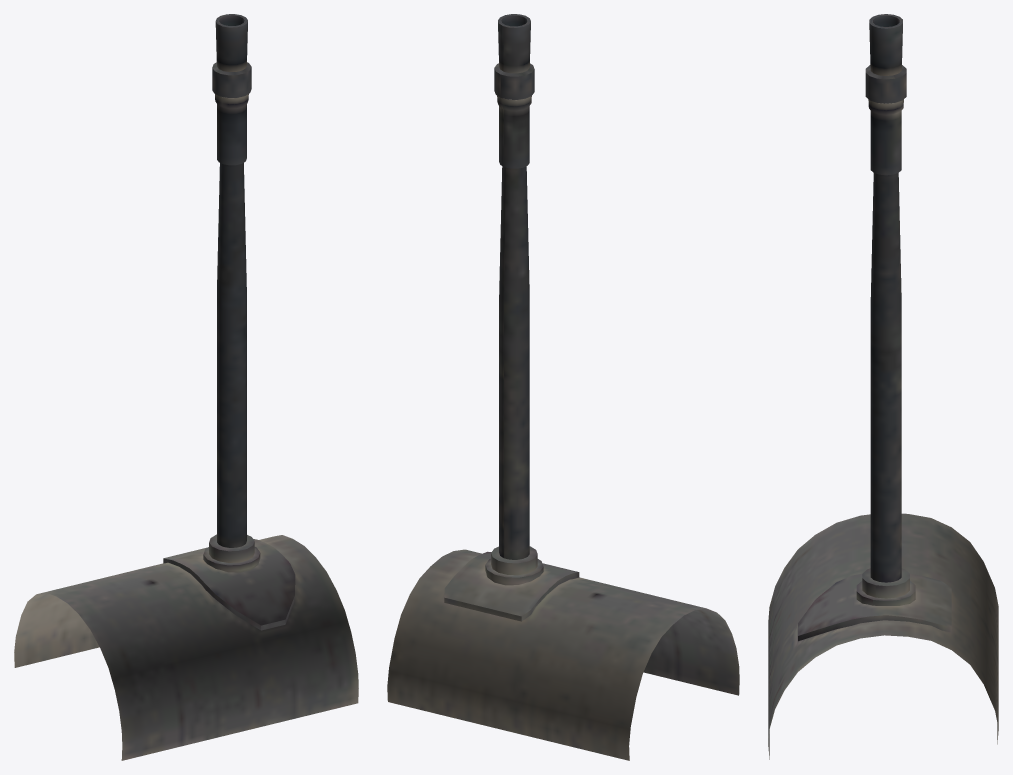
The model's file is Gun_02.glb.
3 views of the same model, side by side, from view 1: azimuth 30°, elevation 25°; view 2: azimuth 150°, elevation 25°; view 3: azimuth 270°, elevation 25° (orthographic). The views are drawn at different scales.
Parts seen in each view (by area): view 1: set_0_group_0; view 2: set_0_group_0; view 3: set_0_group_0.
Boxes of the visible parts, <box> form: set_0_group_0: <box>14,14,358,760</box>; set_0_group_0: <box>387,14,739,760</box>; set_0_group_0: <box>768,14,998,759</box>.
Size of the model in its own units: 0.3988 by 1.06 by 0.3159.
1 material, 1 textured.
